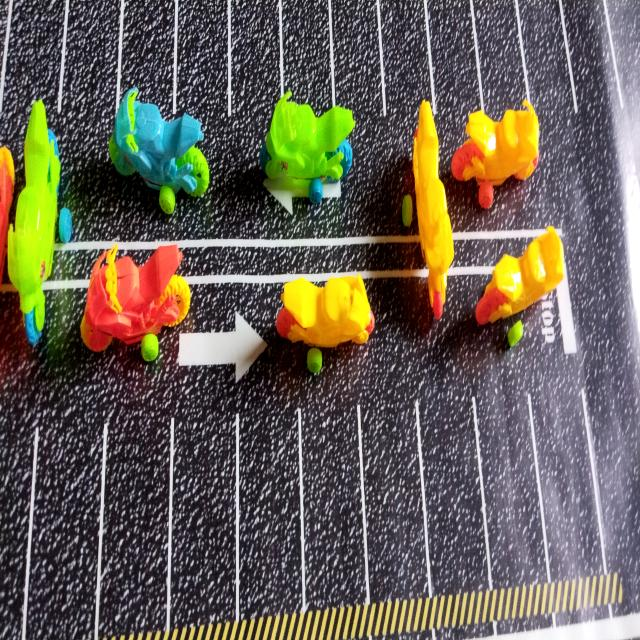bikes: (7, 100, 72, 344), (81, 243, 190, 361), (109, 87, 209, 214), (403, 100, 454, 319), (260, 92, 355, 203), (476, 226, 563, 346), (276, 274, 375, 373), (451, 100, 539, 207)
slots: (26, 401, 104, 638), (99, 410, 168, 636), (472, 379, 546, 586), (532, 371, 602, 579), (420, 389, 488, 594), (171, 415, 236, 626), (240, 400, 301, 617), (302, 406, 366, 607), (363, 401, 427, 600), (60, 2, 119, 163), (1, 0, 65, 135), (332, 0, 385, 139), (230, 0, 281, 144), (561, 0, 622, 111), (177, 0, 227, 131), (120, 2, 177, 116), (428, 1, 480, 124), (475, 0, 525, 119), (283, 0, 332, 114), (520, 3, 569, 115), (380, 3, 426, 120)
